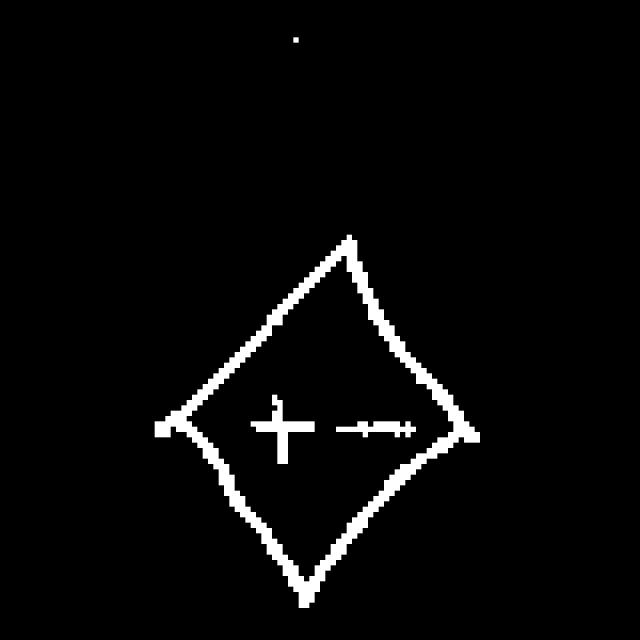dependant_voltage: (163, 231, 455, 609)
